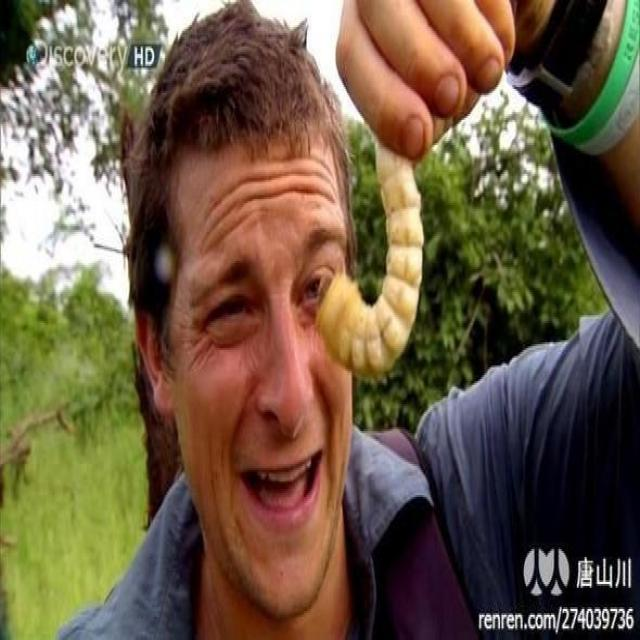Grub-Adult-: (314, 120, 432, 380)
